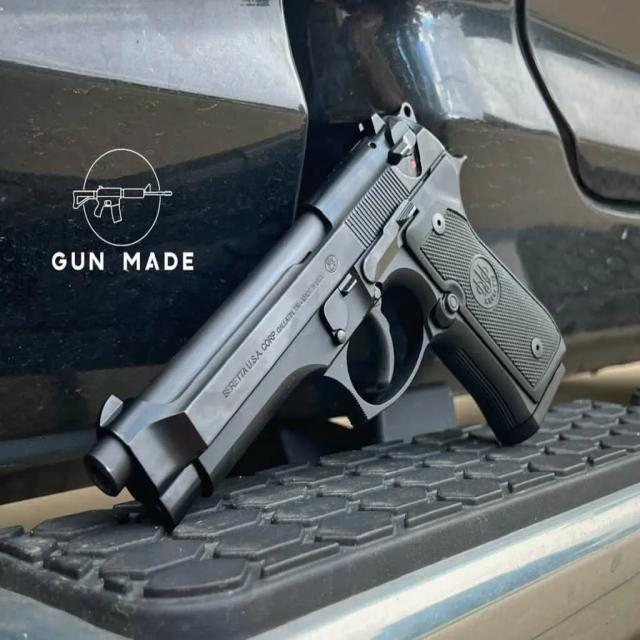Gun: (74, 84, 580, 539)
